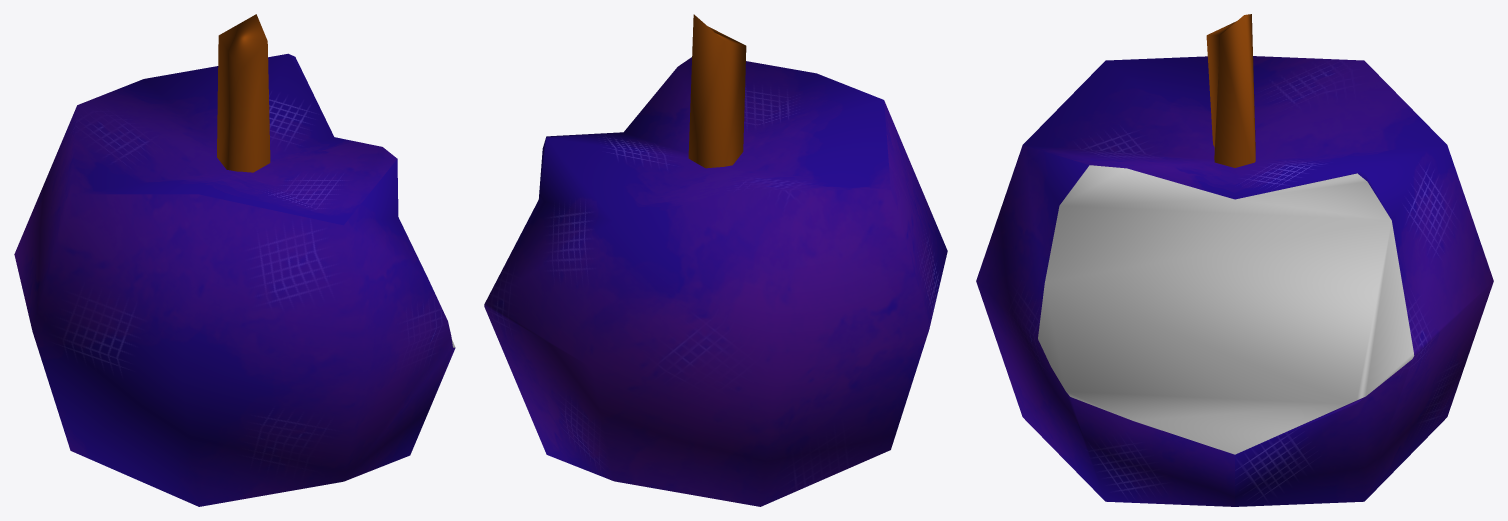
File: apple_poisonApple.obj
3 views of the same model, side by side, from view 1: azimuth 30°, elevation 25°; view 2: azimuth 150°, elevation 25°; view 3: azimuth 270°, elevation 25° (orthographic). The views are drawn at different scales.
Parts seen in each view (by area): view 1: Cube, 立方体; view 2: Cube, 立方体; view 3: Cube, 立方体.
Part boxes in pixels (<box>): Cube: <box>14,53,455,506</box>; 立方体: <box>217,14,270,172</box>; Cube: <box>484,57,947,506</box>; 立方体: <box>688,14,746,168</box>; Cube: <box>976,56,1493,506</box>; 立方体: <box>1206,14,1255,167</box>.
Bounding box in the file's own units: 1.64 × 1.74 × 1.72.
2 materials, 1 textured.
